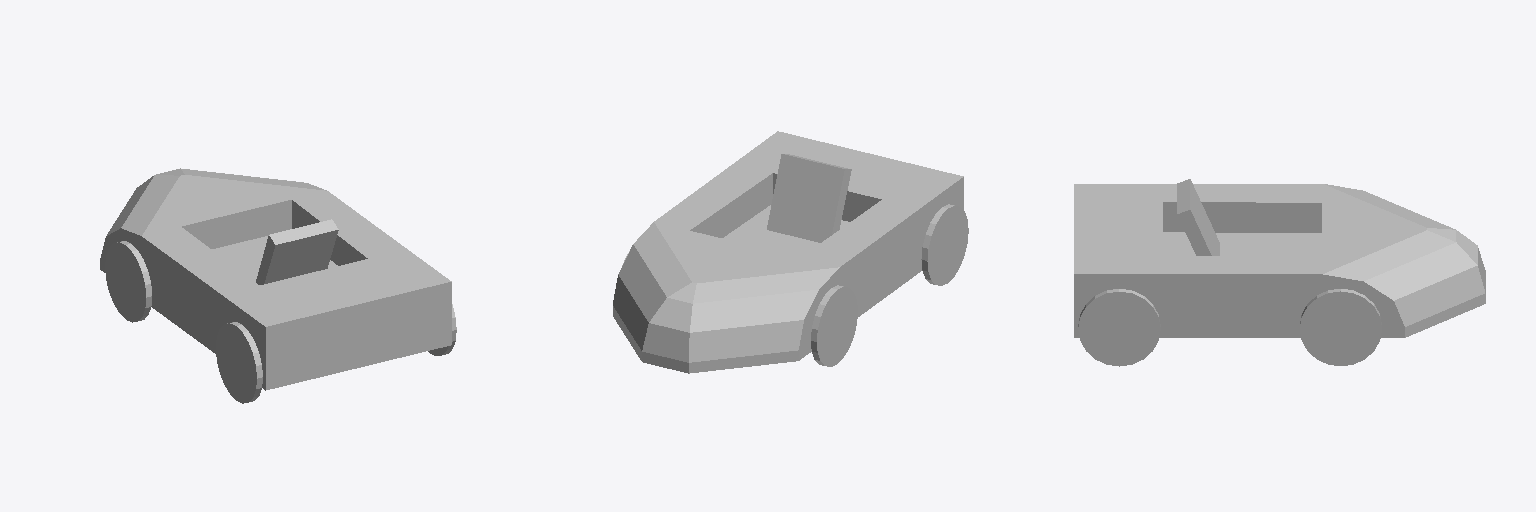
File: Car2.obj
The picture shows the model from 3 angles: view 1: azimuth 30°, elevation 25°; view 2: azimuth 150°, elevation 25°; view 3: azimuth 270°, elevation 25°; orthographic projection.
Visible parts, largest first — view 1: pCube2; view 2: pCube2; view 3: pCube2.
Part boxes in pixels (left/top/right/bottom): pCube2: left=100, top=168, right=456, bottom=403; pCube2: left=613, top=131, right=968, bottom=373; pCube2: left=1074, top=179, right=1485, bottom=366.
Bounding box in the file's own units: 1.22 × 0.7197 × 2.17.